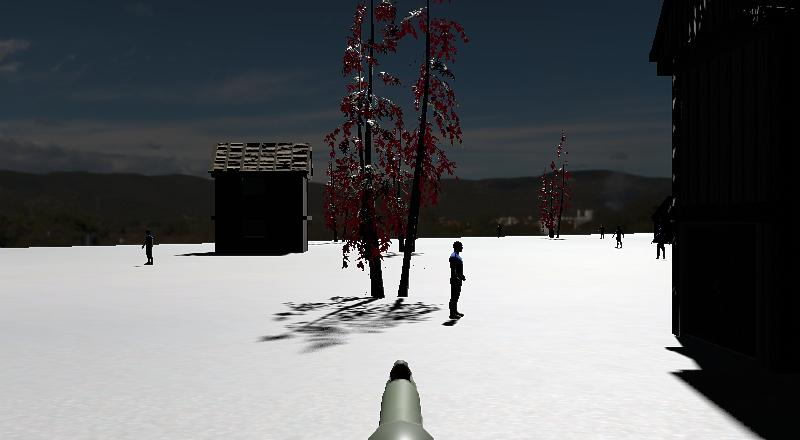House: (614, 0, 800, 440), (192, 121, 328, 277), (327, 155, 421, 250)
Human: (435, 231, 482, 327), (610, 220, 631, 254)
